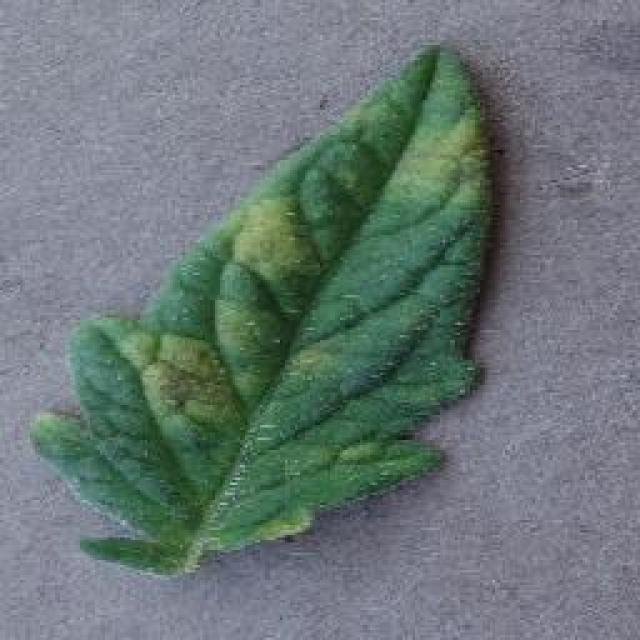Tomato mold leaf: (33, 44, 495, 584)
